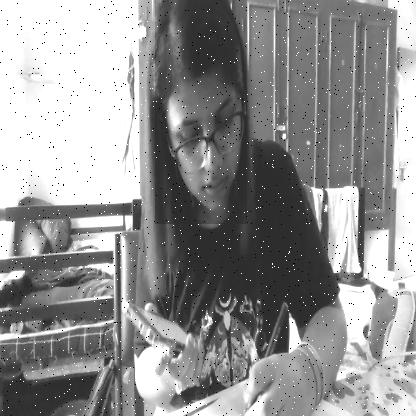Normal: (155, 0, 247, 224)
